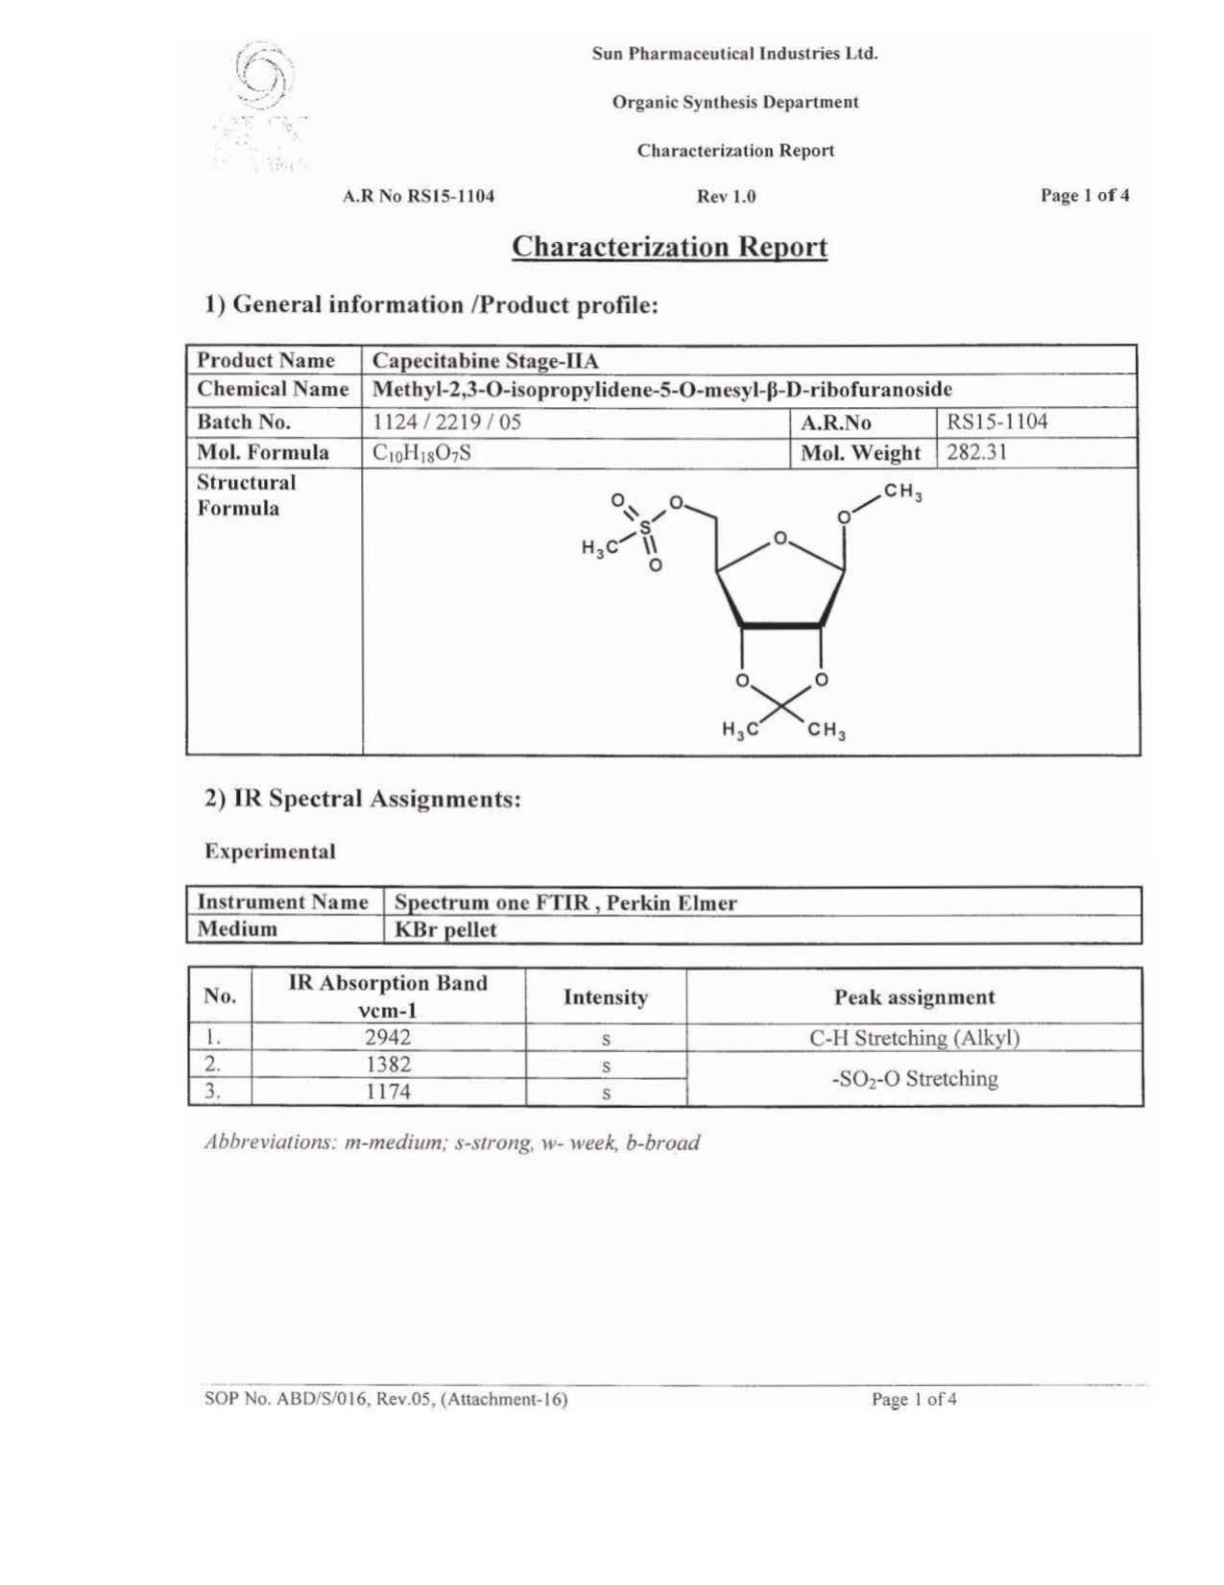full_lined: (184, 884, 1144, 946)
merged_cells: (184, 341, 1143, 758), (186, 964, 1146, 1108)
